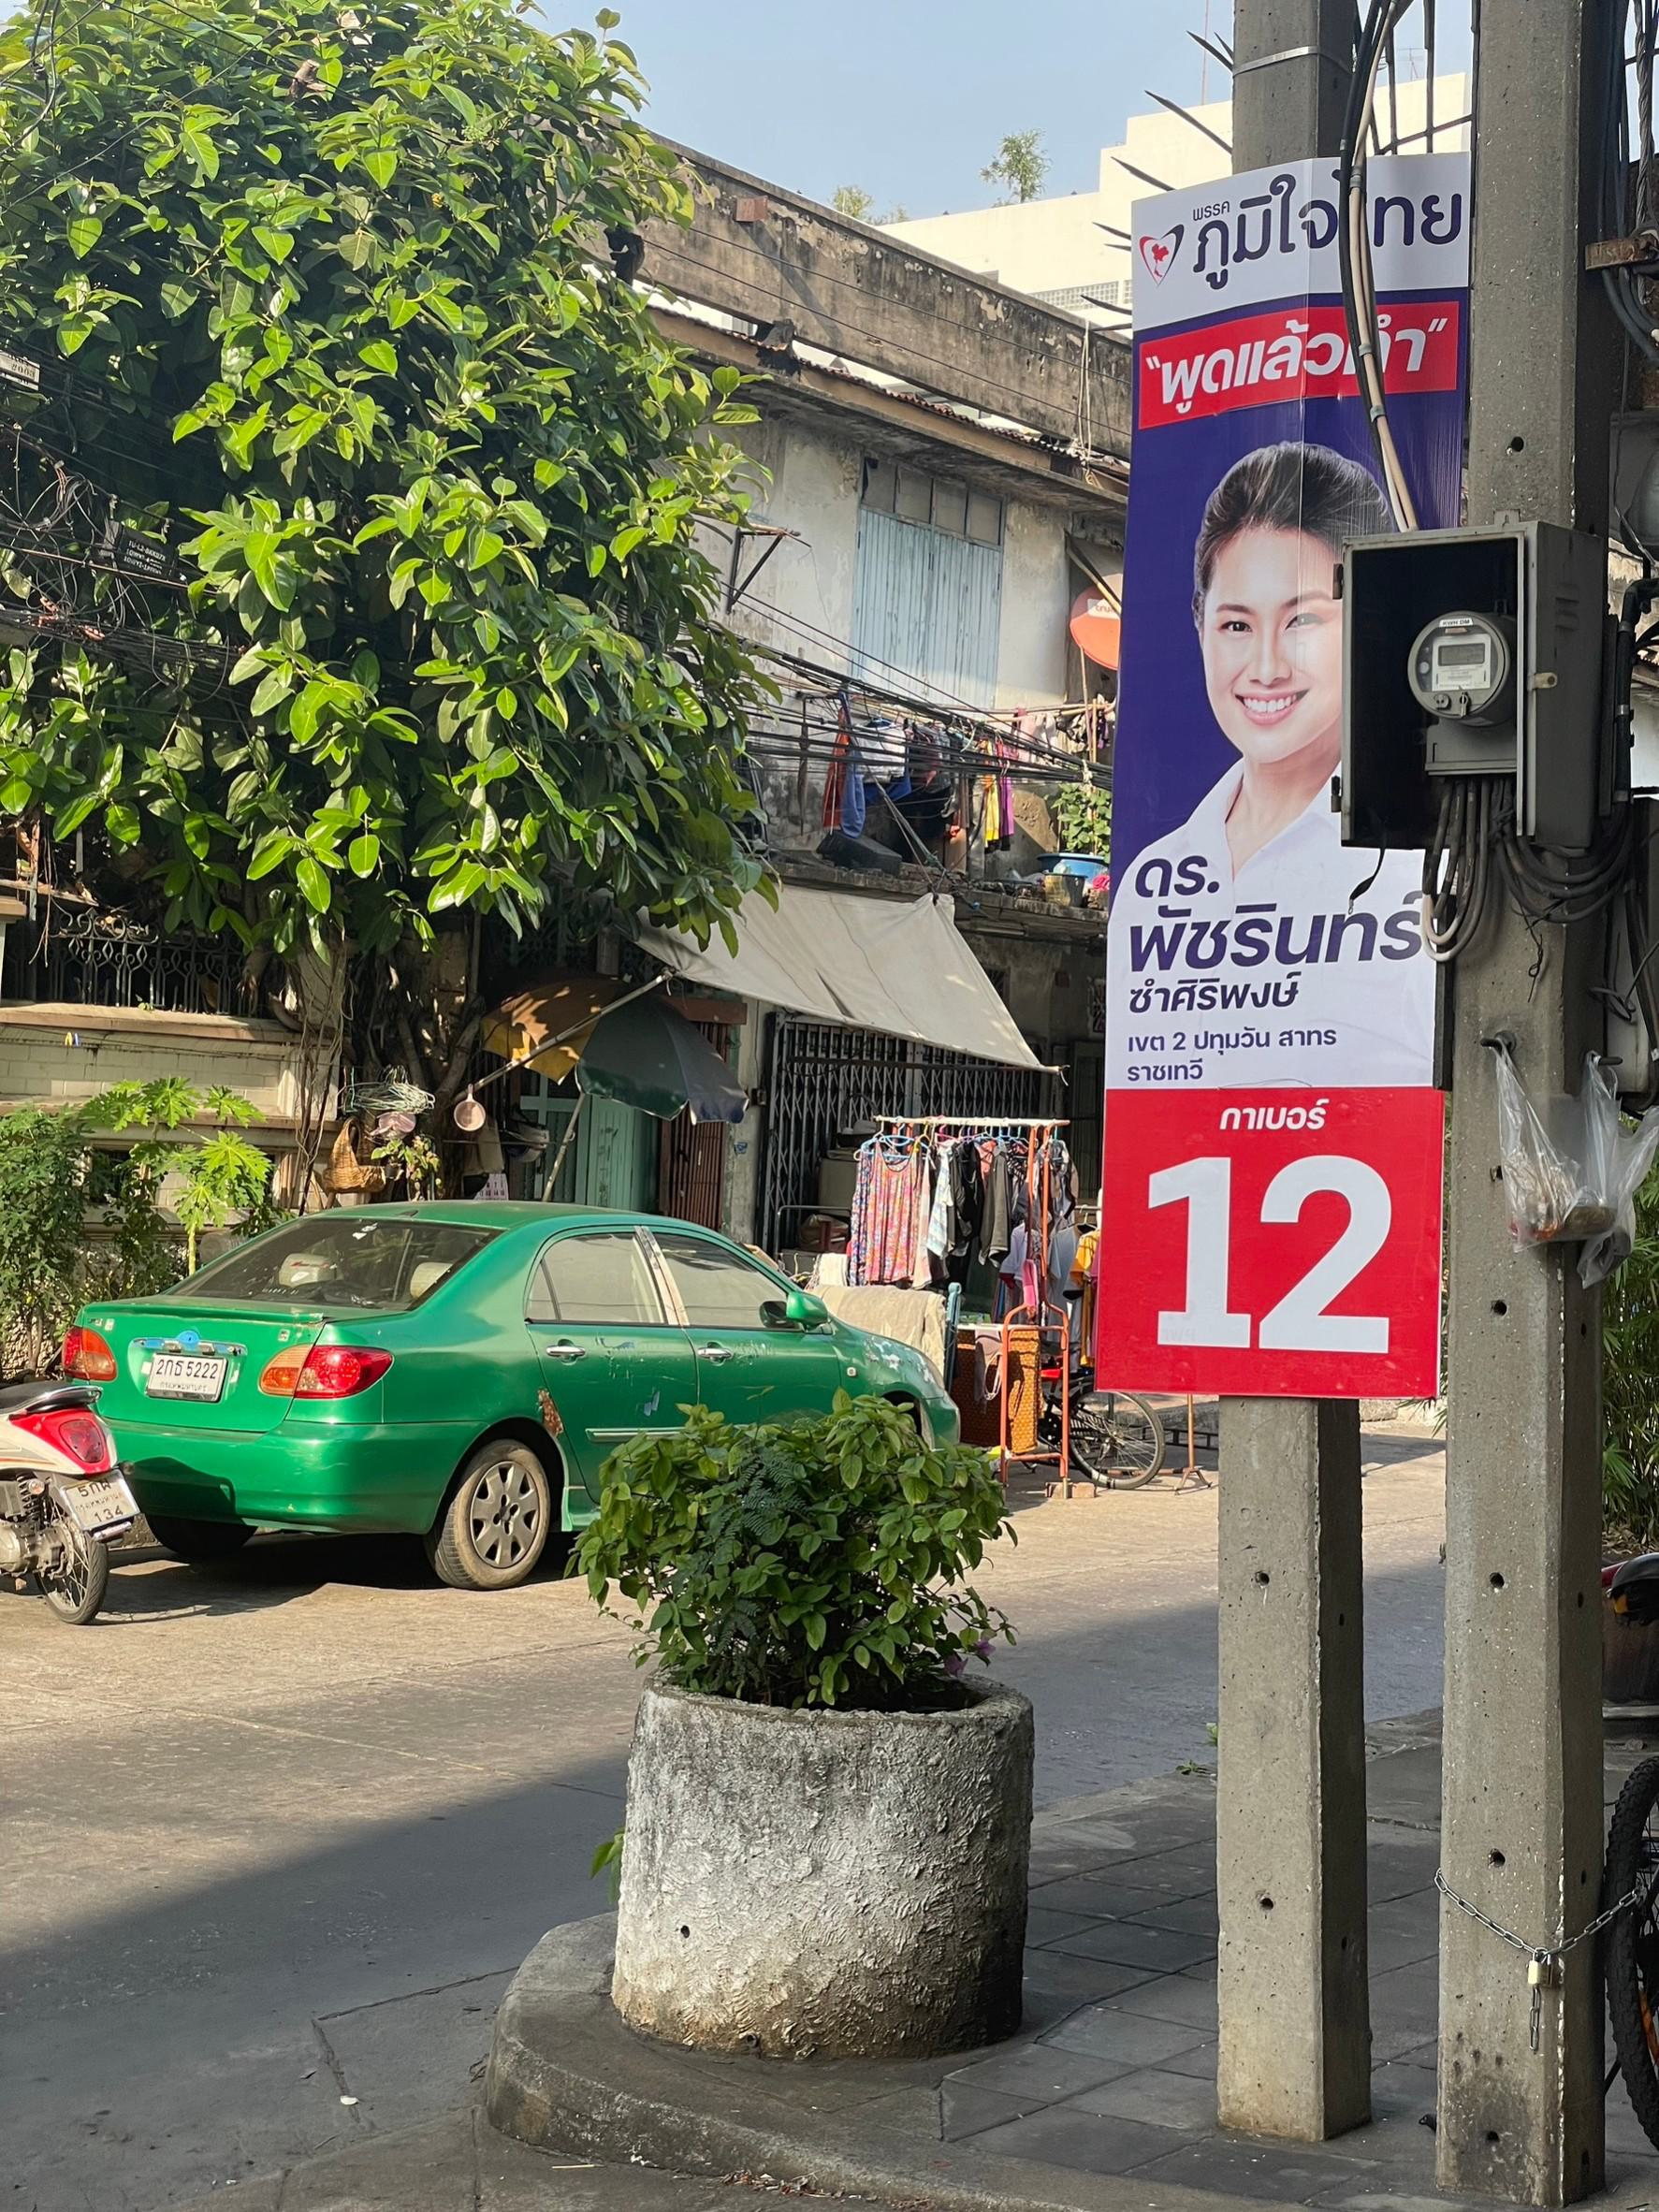Banner: (1108, 150, 1474, 1374)
